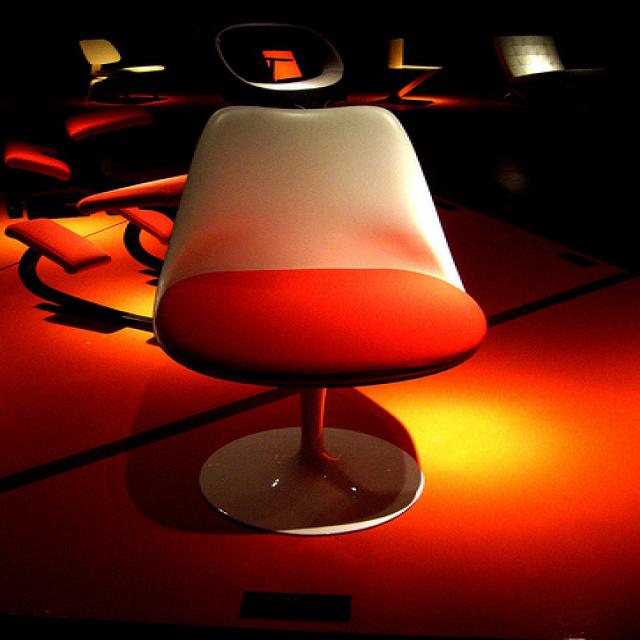chair: (188, 89, 479, 559), (61, 32, 178, 104)
